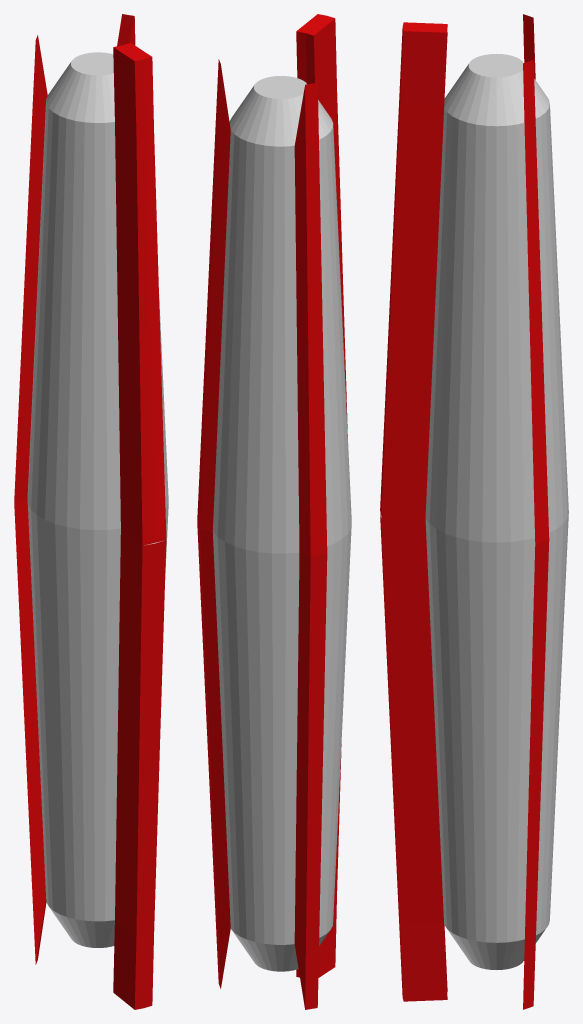
The model's file is basedFalcRED.glb.
The picture shows the model from 3 angles, left to right: view 1: azimuth 30°, elevation 25°; view 2: azimuth 150°, elevation 25°; view 3: azimuth 270°, elevation 25°; orthographic projection. The views are drawn at different scales.
Parts seen in each view (by area): view 1: Circle; view 2: Circle; view 3: Circle.
Boxes of the visible parts, bbox=[...] form: Circle: bbox=[14, 14, 168, 1009]; Circle: bbox=[197, 14, 351, 1009]; Circle: bbox=[380, 14, 568, 1009].
Size of the model in its own units: 2.12 by 14.79 by 2.61.
